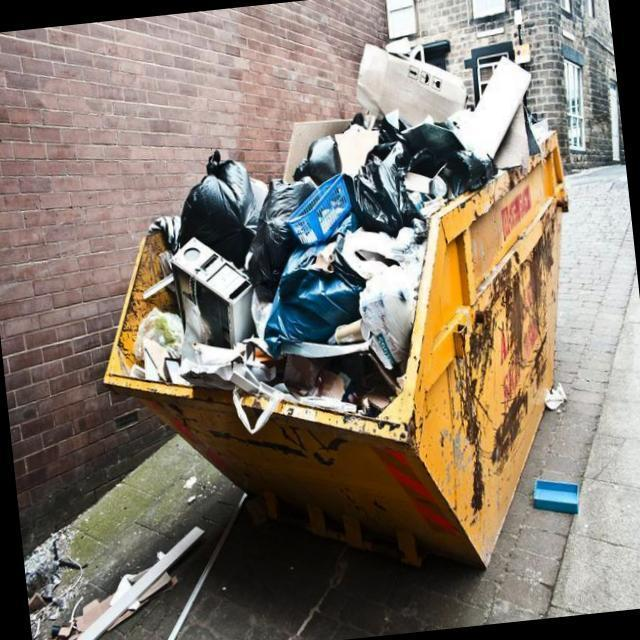garbage: (156, 72, 470, 434), (350, 30, 546, 182), (37, 515, 222, 640), (516, 464, 588, 528)
